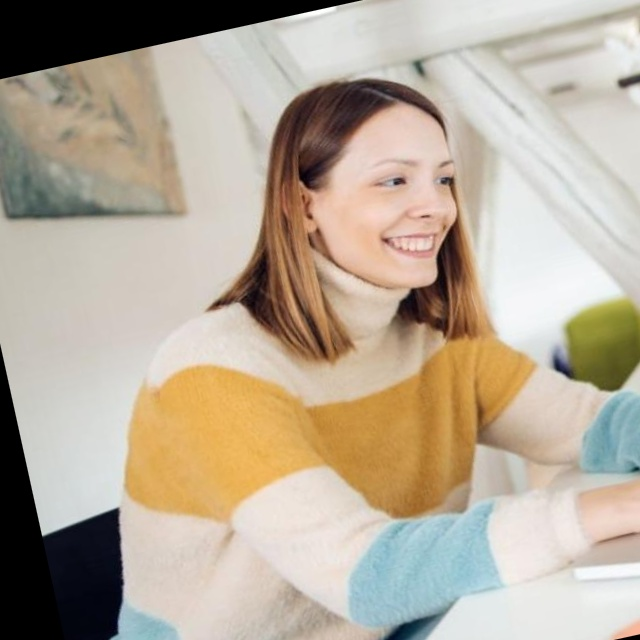Sin_Casco_Mascarrilla: (261, 62, 480, 315)
